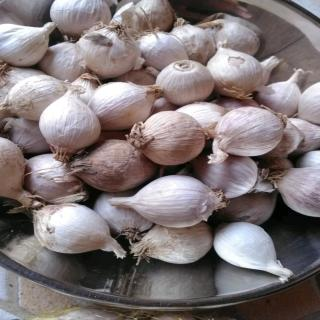Bawang Putih: (35, 88, 109, 167)
